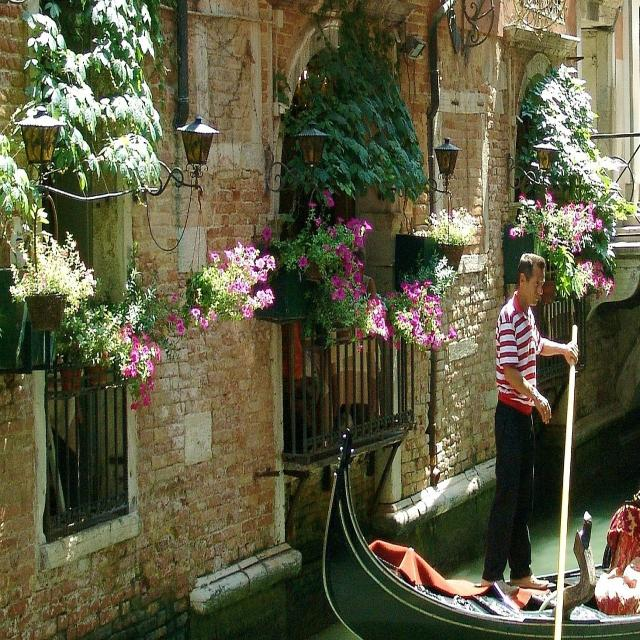boat: (307, 393, 640, 640)
